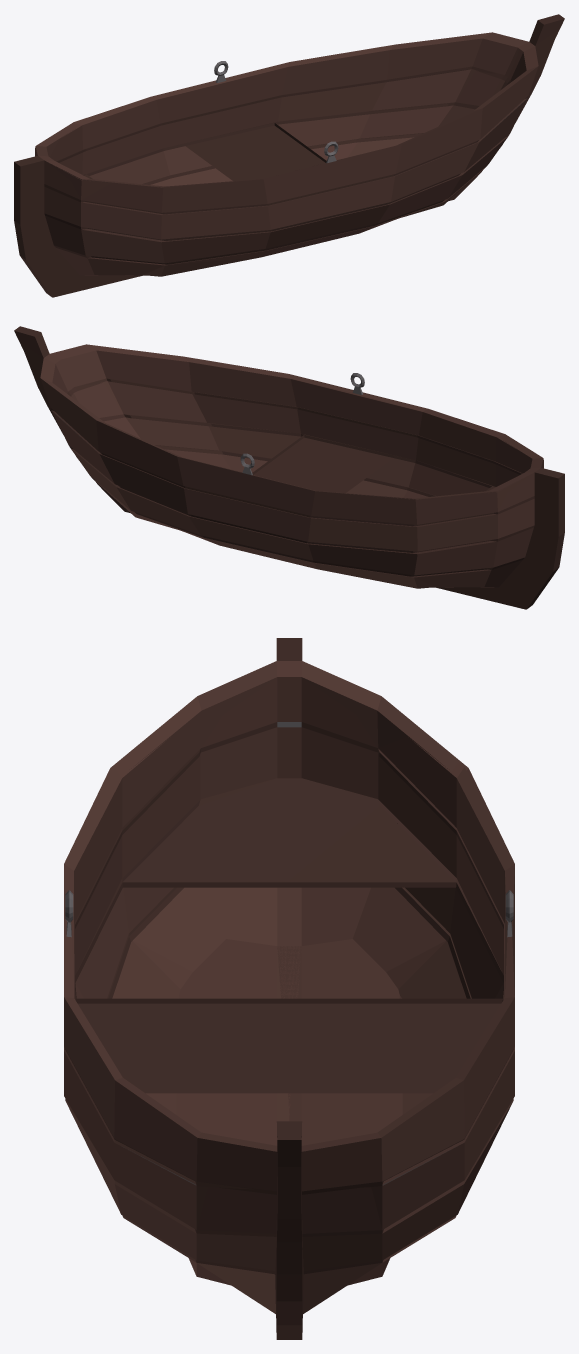
File: Bote.fbx
3 views of the same model, one above another, from view 1: azimuth 30°, elevation 25°; view 2: azimuth 150°, elevation 25°; view 3: azimuth 270°, elevation 25° (orthographic). The views are drawn at different scales.
Visible parts, largest first — view 1: Bote; view 2: Bote; view 3: Bote.
Boxes of the visible parts, left/top/right/bottom form: Bote: left=14, top=14, right=564, bottom=297; Bote: left=14, top=326, right=564, bottom=609; Bote: left=64, top=638, right=514, bottom=1339.
Size of the model in its own units: 373 by 101 by 134.
